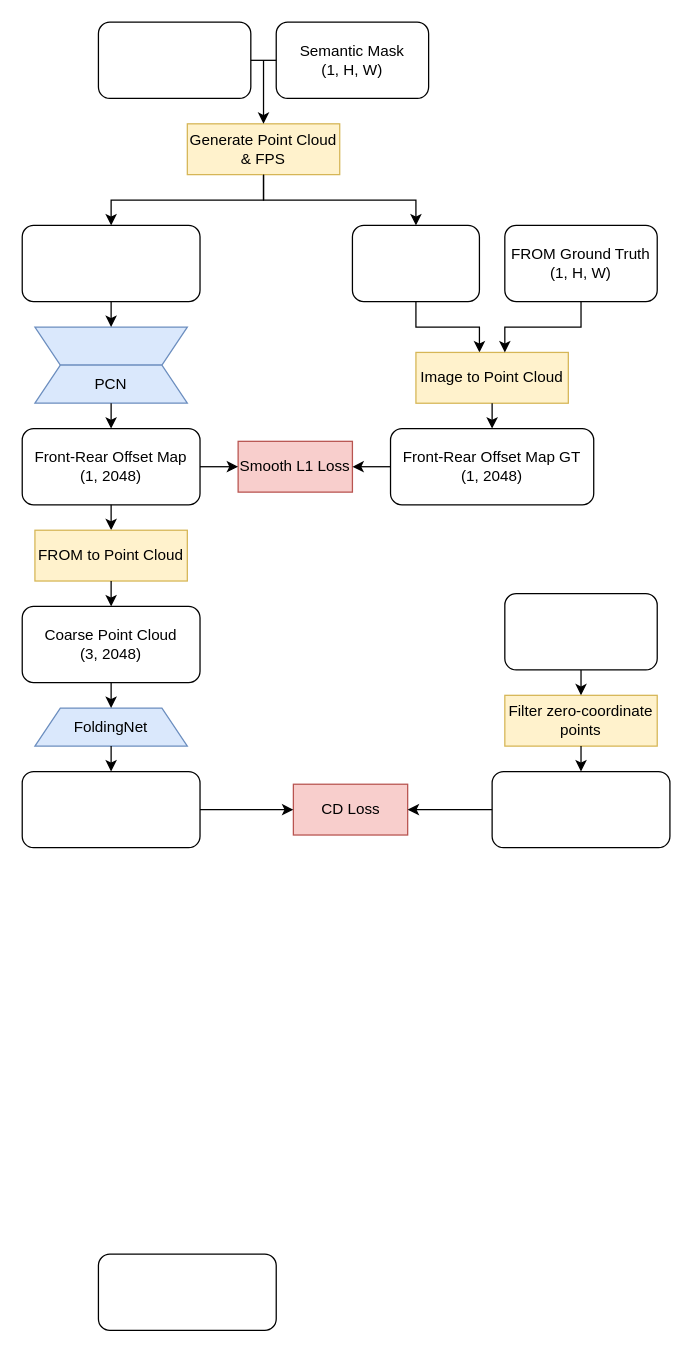
Image size: 692x1353. Some labels were removed from this diagram. Here are the shapes that lost their labels. From the top down, the centre of each, then its label:
the point at 174,59: Depth Image (1, H, W)
the point at 110,263: Semantic Point Cloud (4, 2048)
the point at 415,263: Sampled Points (2, 2048)
the point at 580,631: Rear Point Cloud GT (3, H*W)
the point at 110,809: Dense Point Cloud (3, 16384)
the point at 580,809: Rear Point Cloud GT (3, N_point)
the point at 186,1291: Rear Point Cloud Image (3, H, W)
